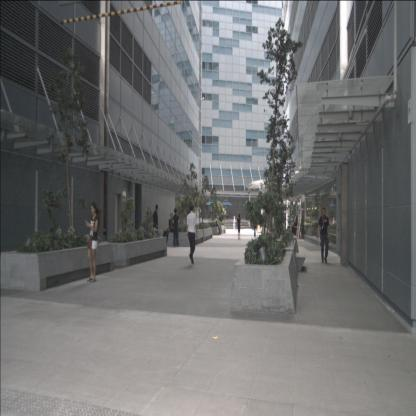human-pedestrian-adult: (85, 203, 99, 282), (187, 203, 198, 267), (318, 207, 330, 263), (172, 208, 180, 247), (166, 213, 175, 246), (152, 205, 159, 245), (291, 215, 298, 234), (236, 214, 241, 240), (253, 214, 258, 237), (216, 216, 221, 236), (233, 216, 236, 232)
